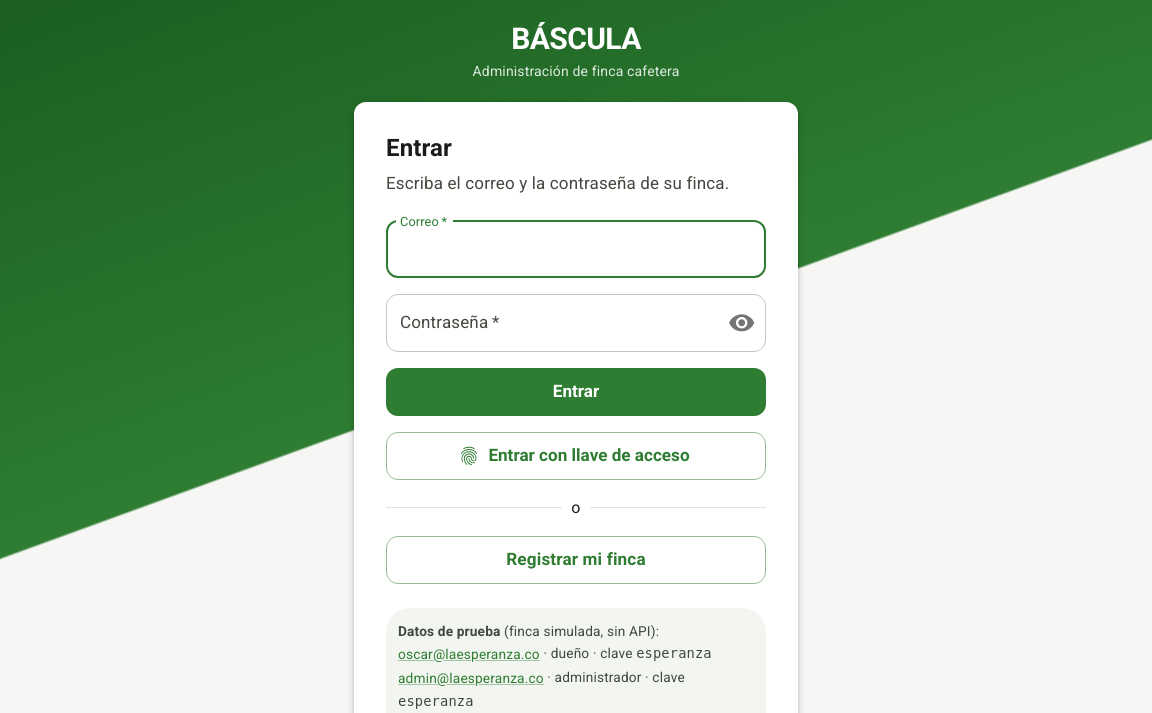
Scenario: a passkey that does not open this farm › shows any other failure as it is
Click the button "Entrar con llave de acceso" at (576, 456), box [386, 432, 766, 480]
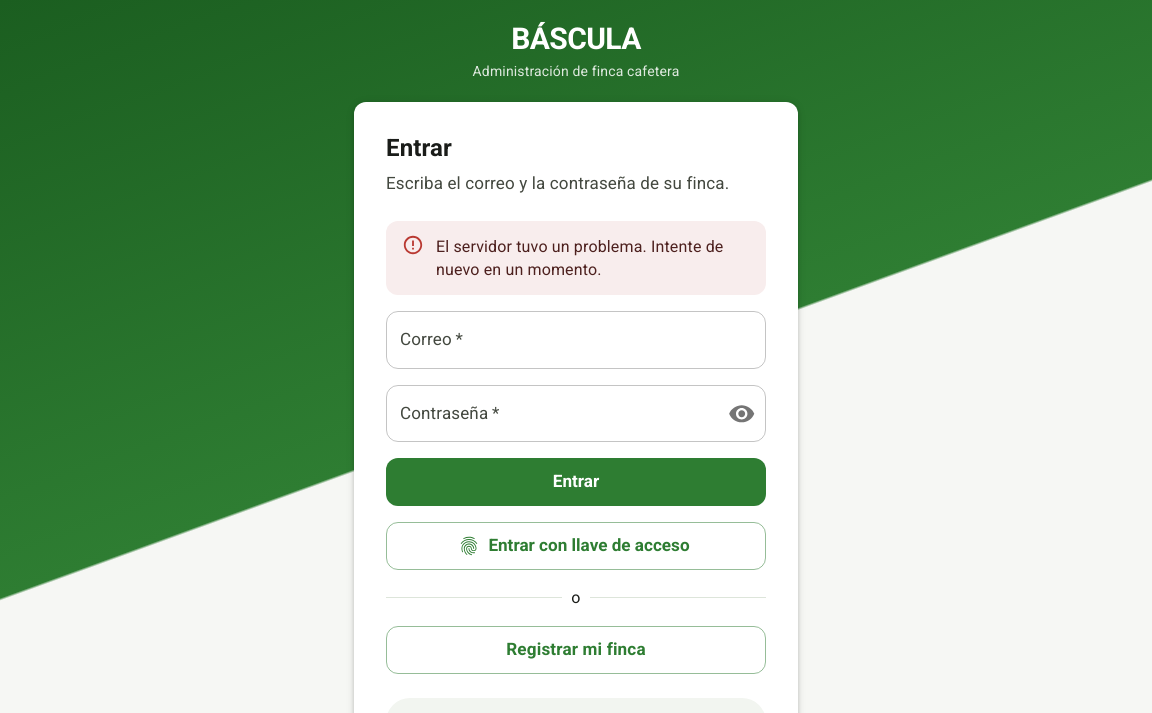
expect the message "El servidor tuvo un problema. Intente de nuevo en un momento." is shown: met, box [386, 221, 766, 295]
